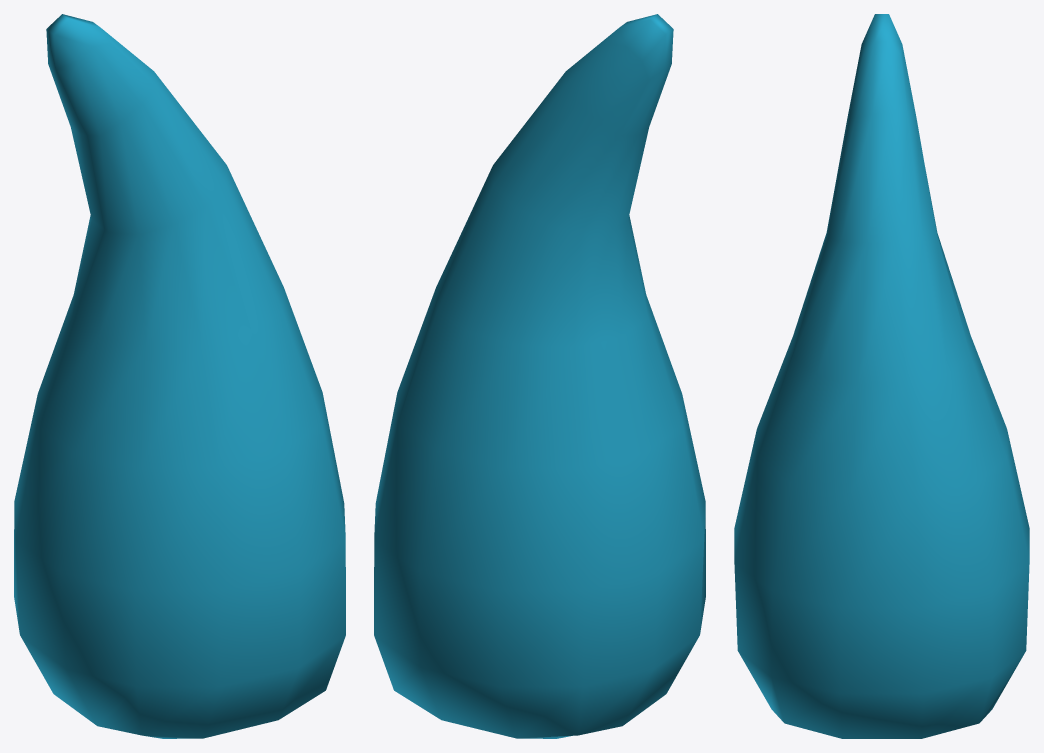
File: kropla.fbx
3 views of the same model, side by side, from view 1: azimuth 30°, elevation 25°; view 2: azimuth 150°, elevation 25°; view 3: azimuth 270°, elevation 25° (orthographic). The views are drawn at different scales.
Parts seen in each view (by area): view 1: Cube; view 2: Cube; view 3: Cube.
Boxes of the visible parts, box(x1,y1,x2,y2) form: Cube: box(14, 14, 345, 738); Cube: box(374, 14, 705, 738); Cube: box(734, 14, 1029, 738).
Size of the model in its own units: 2.38 by 5.8 by 2.37.
